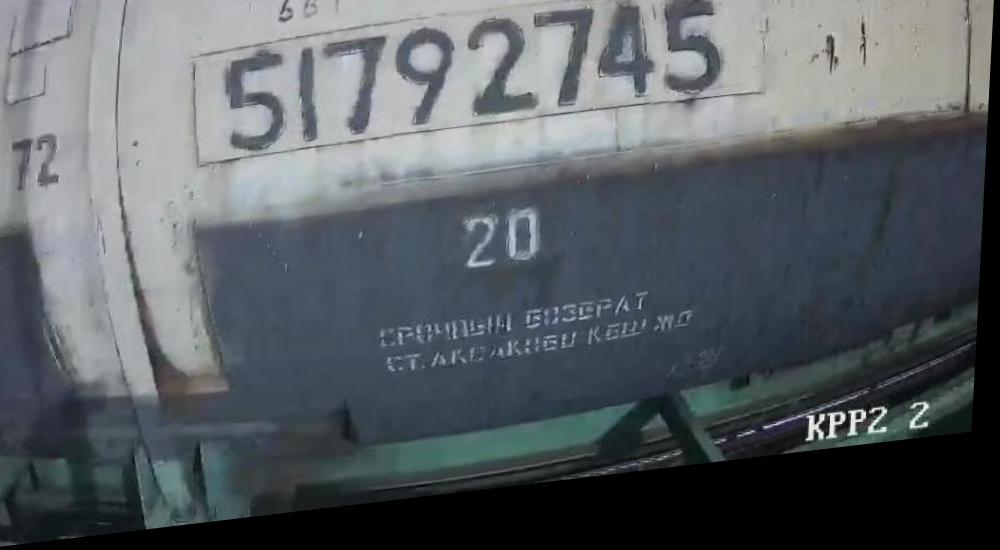Wagon-number: (219, 1, 742, 162)
